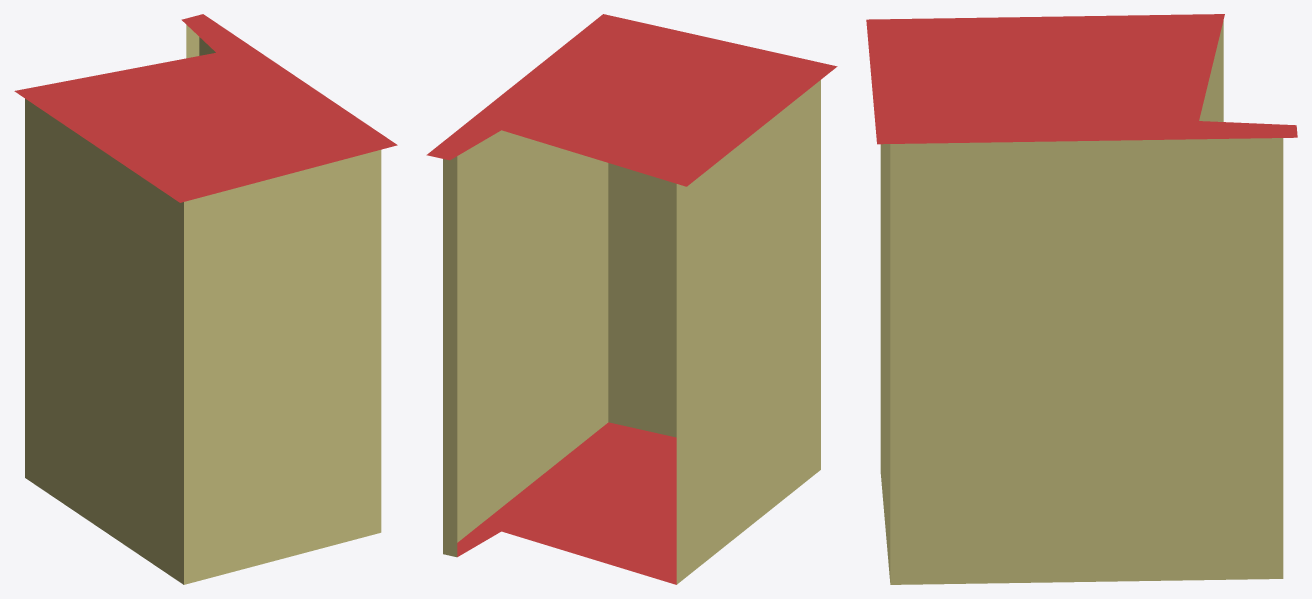
3 renders of one model, left to right at view 1: azimuth 30°, elevation 25°; view 2: azimuth 150°, elevation 25°; view 3: azimuth 270°, elevation 25°, orthographic. The views are drawn at different scales.
Size of the model in its own units: 5.57 by 7.79 by 8.9.
